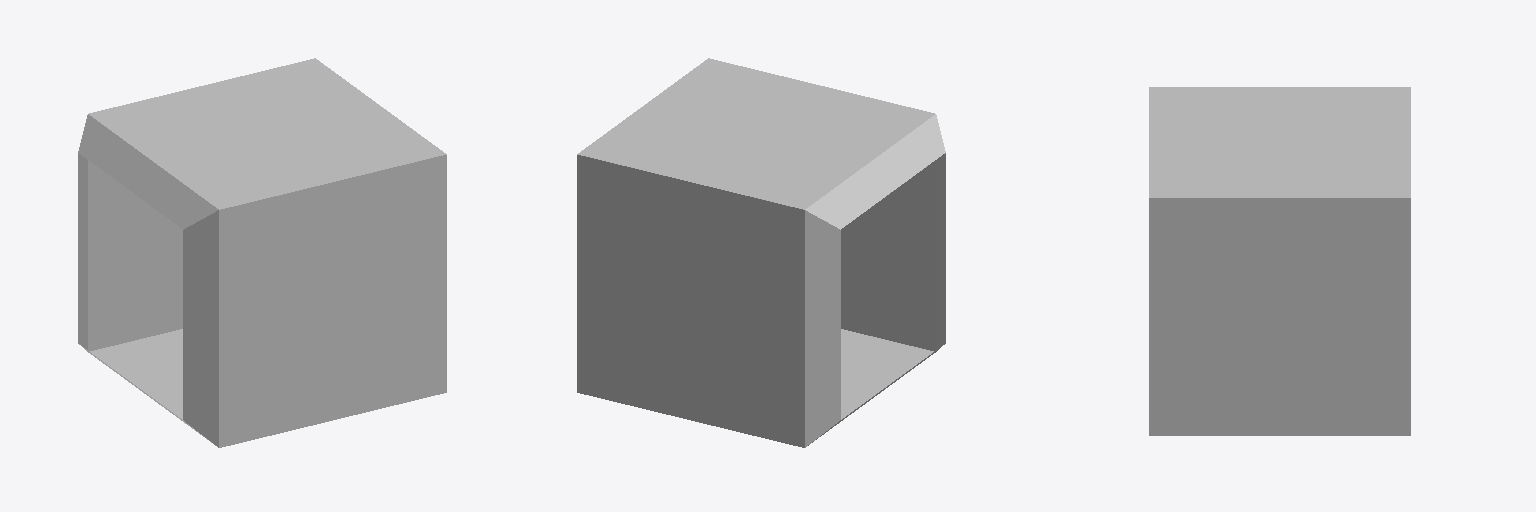
File: edge.obj
3 views of the same model, side by side, from view 1: azimuth 30°, elevation 25°; view 2: azimuth 150°, elevation 25°; view 3: azimuth 270°, elevation 25° (orthographic).
Size of the model in its own units: 2.2 by 2 by 2.